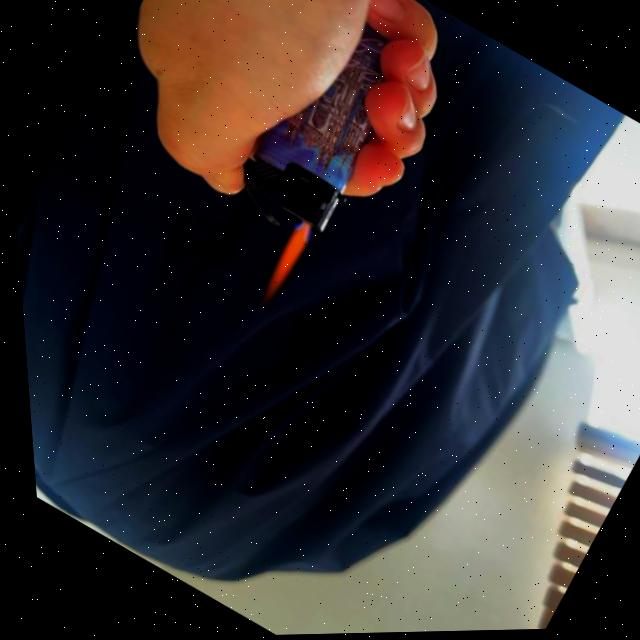Fire: (244, 221, 316, 307)
